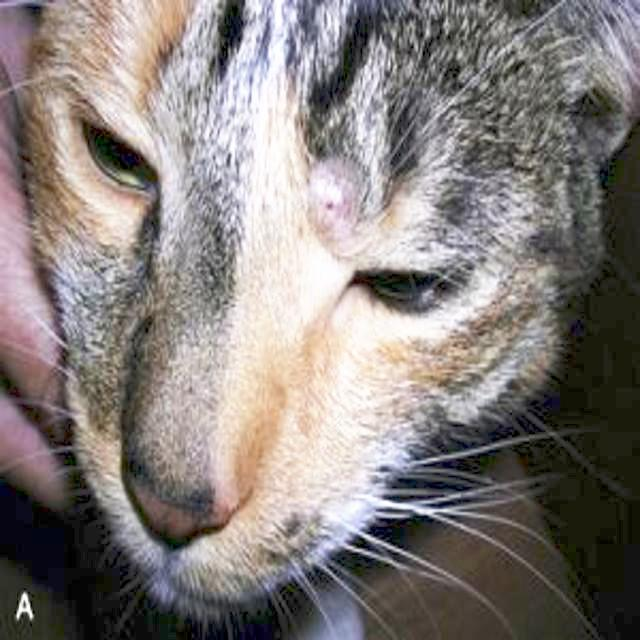lump_and_bump: (310, 162, 364, 242)
